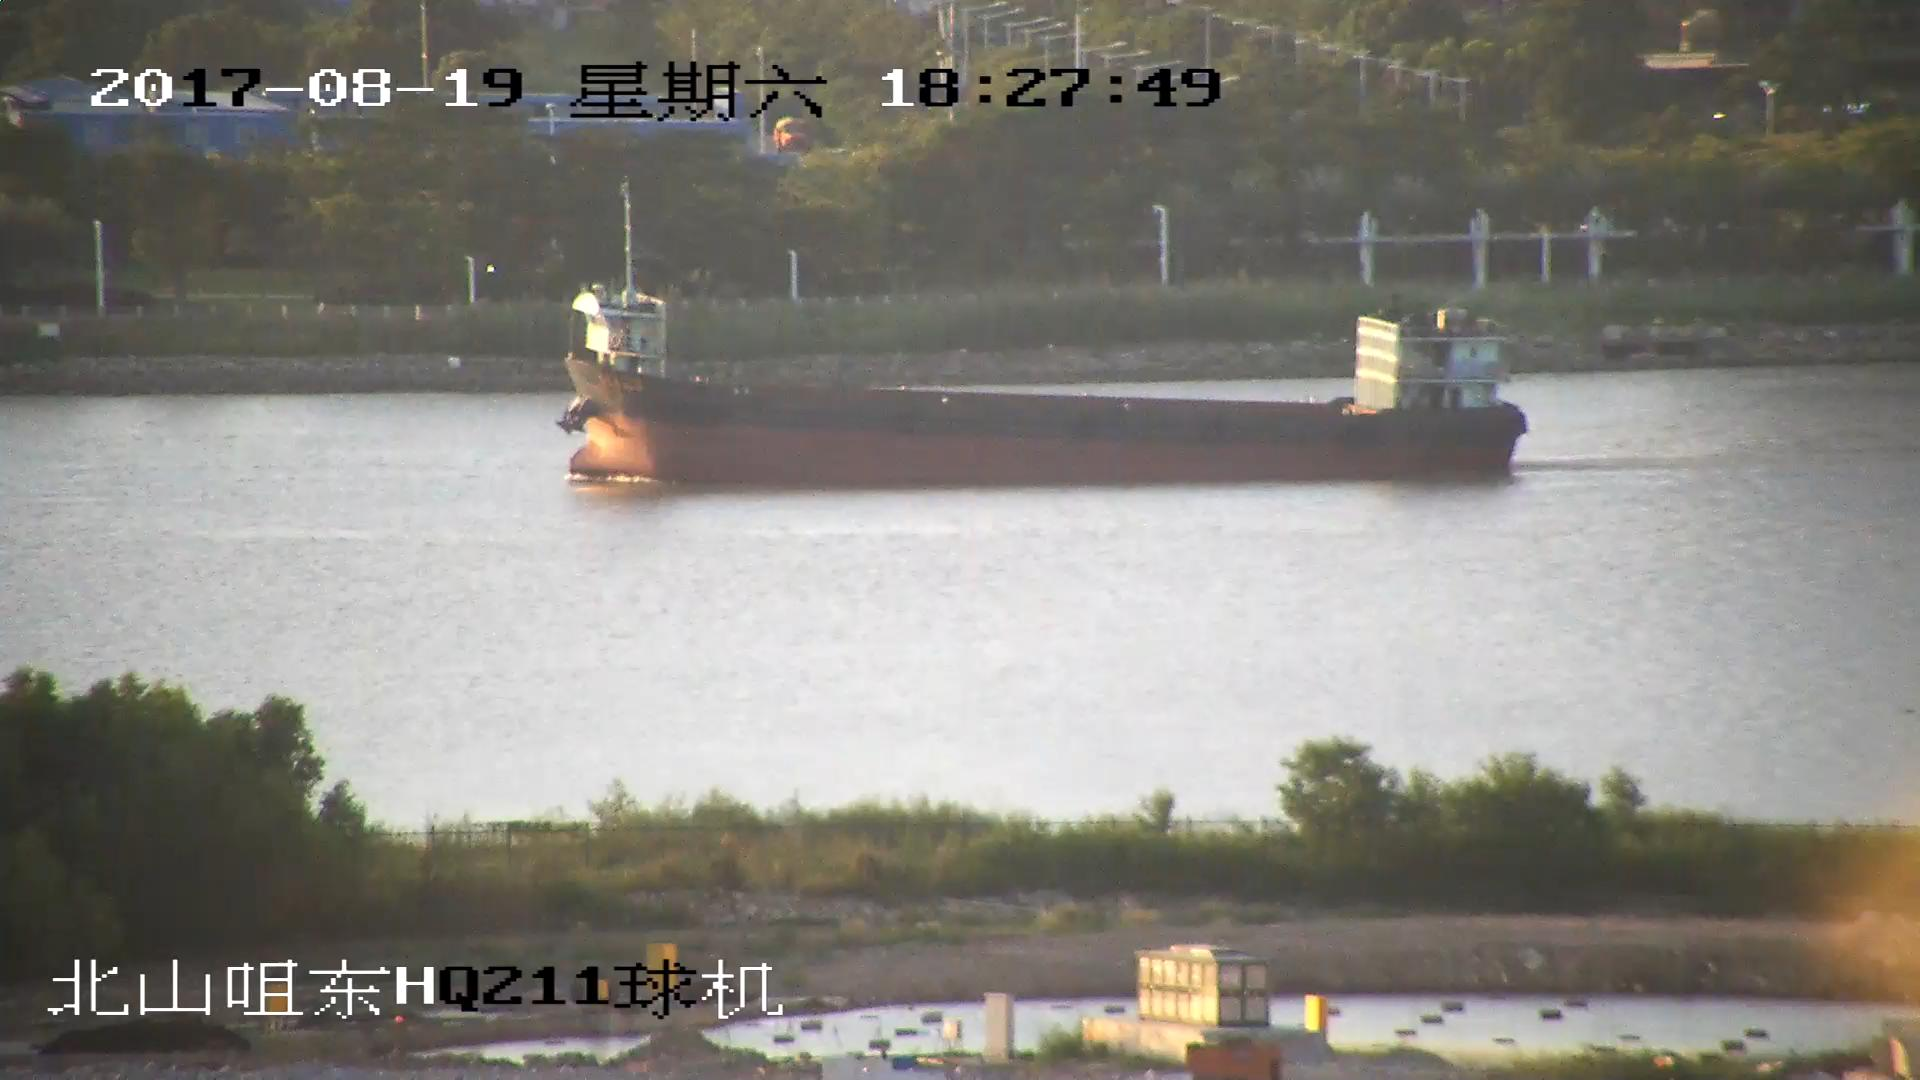general cargo ship: (562, 281, 1529, 483)
